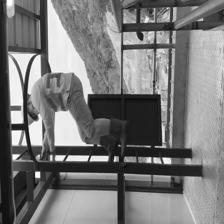Feet: (95, 109, 139, 157)
Hand: (38, 129, 66, 165)
Ladder: (0, 145, 209, 179)
